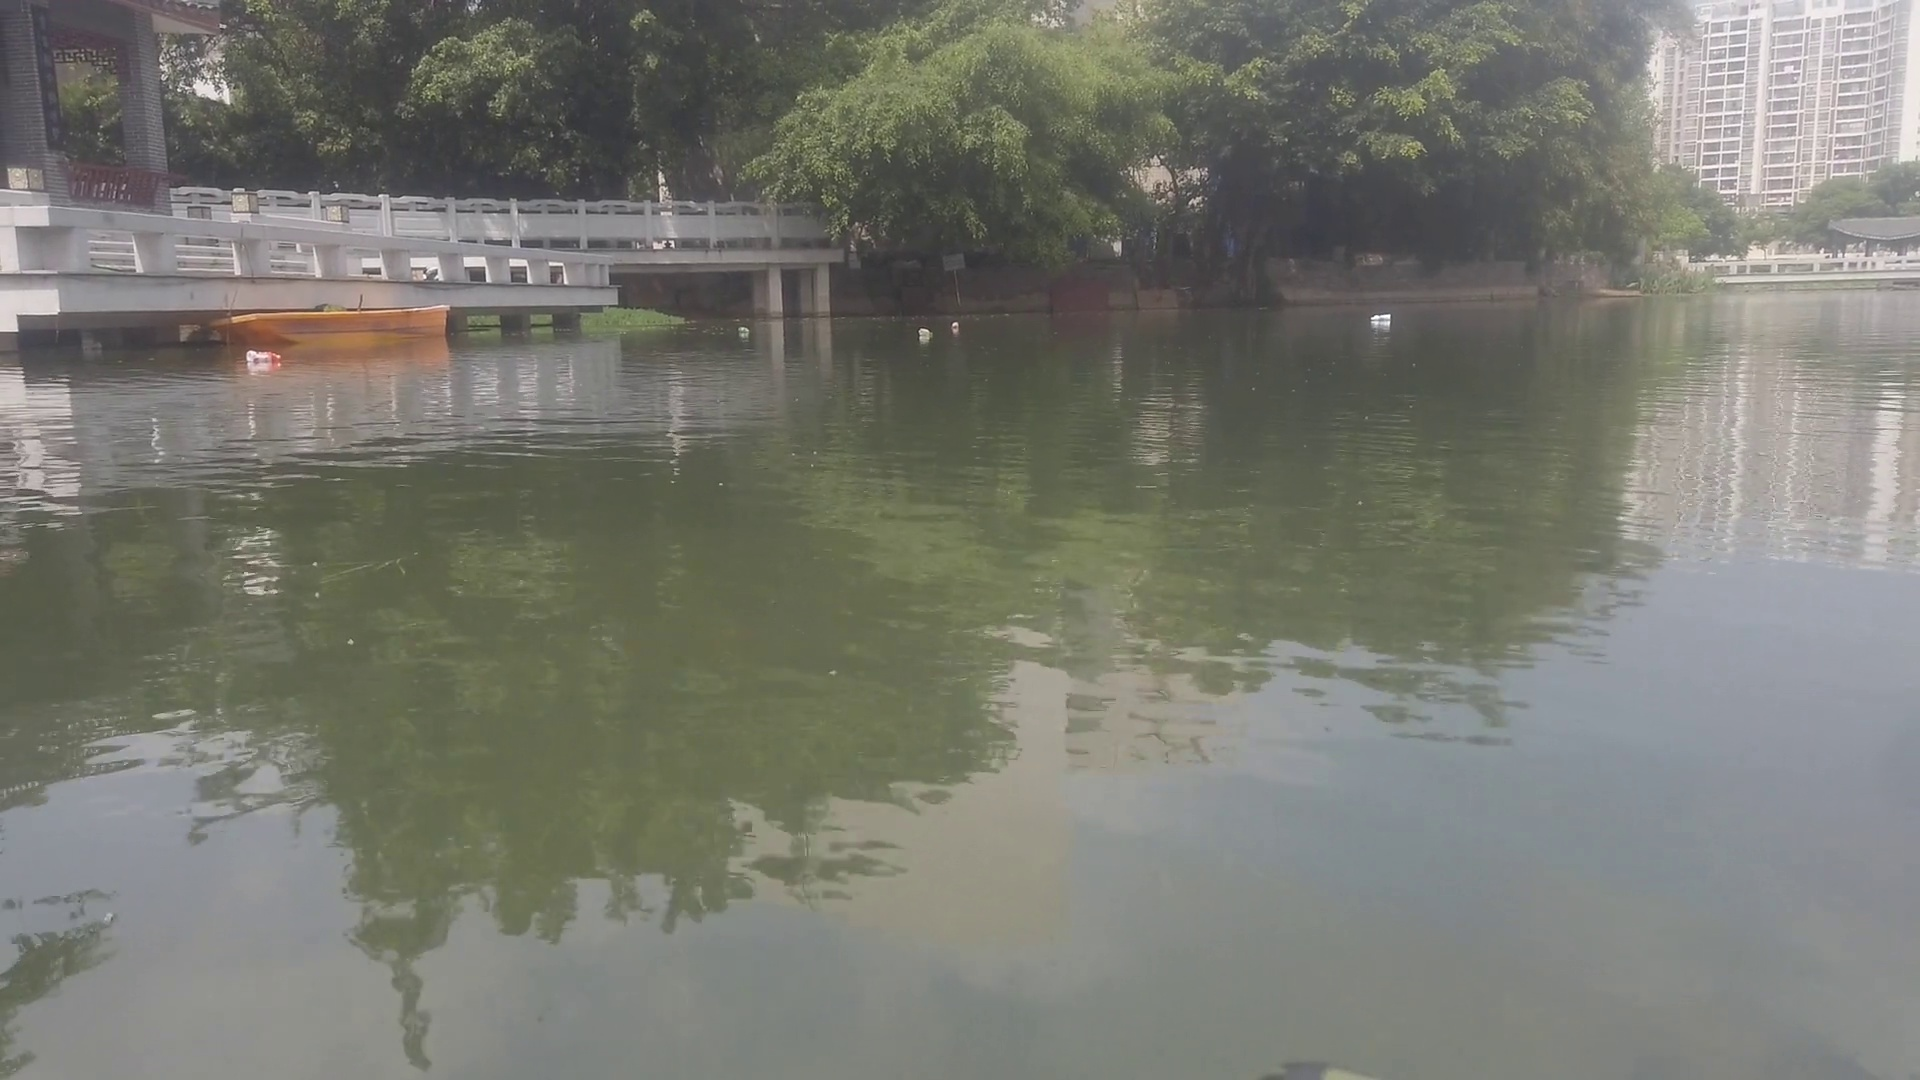bottle: (241, 345, 284, 365), (1367, 310, 1394, 324), (913, 323, 938, 338), (735, 323, 753, 338), (949, 315, 963, 332)
